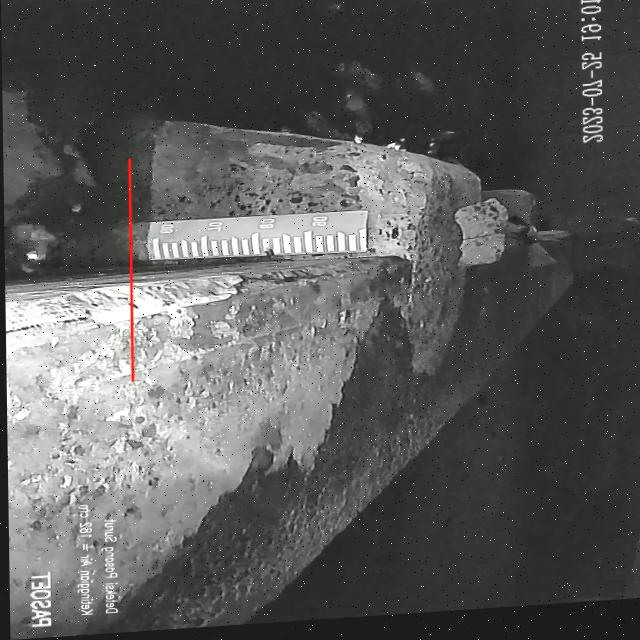water-meter: (117, 201, 374, 271)
